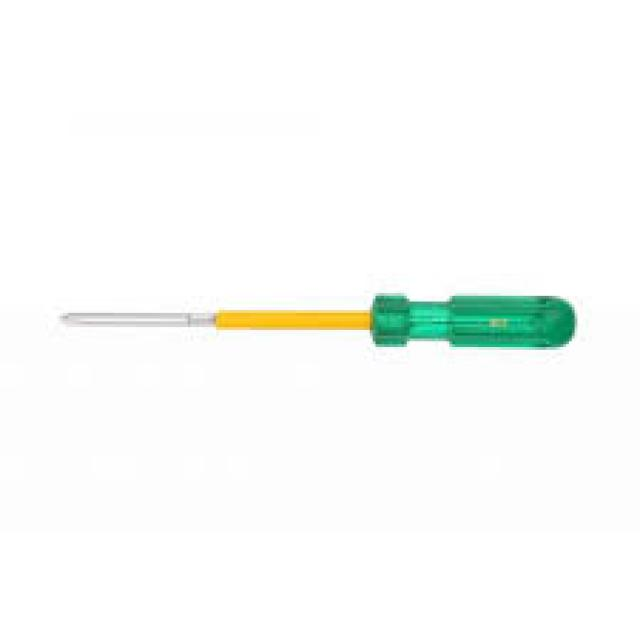Screwdriver: (61, 294, 576, 348)
